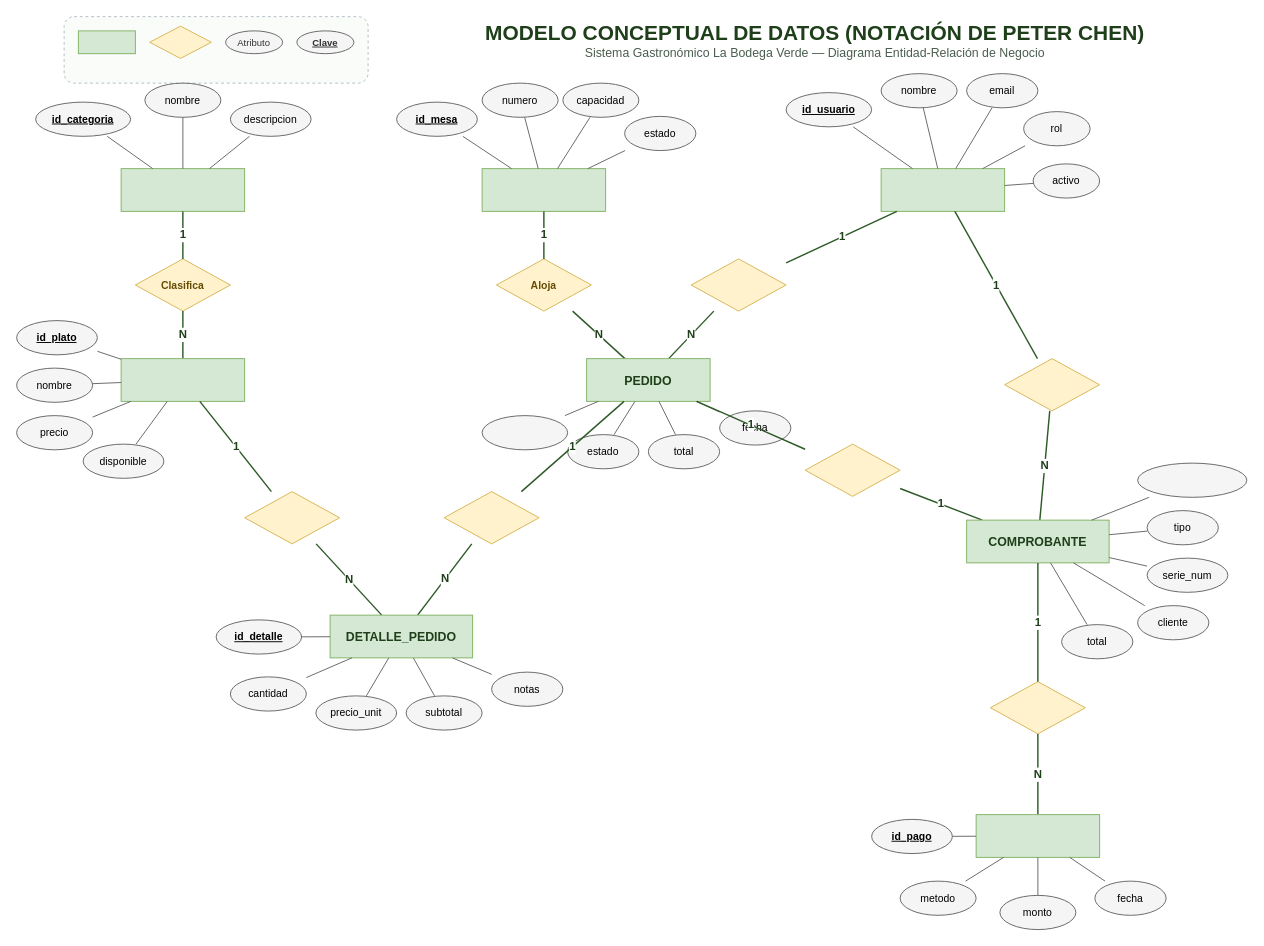
Image size: 1264x946. Some labels were removed from this diagram. Here are the shapes that lost their labels. From the top down, the centre of each, then its label:
(106,42): Entidad
(180,41): Relación
(182,189): CATEGORIA
(543,189): MESA
(942,189): USUARIO
(738,284): Registra (Mesero)
(182,379): PLATO
(1052,384): Emite (Cajero)
(524,432): id_pedido
(852,469): Genera
(1192,479): id_comprobante
(292,517): Solicita
(491,517): Contiene
(1037,707): Liquida
(1037,835): PAGO
